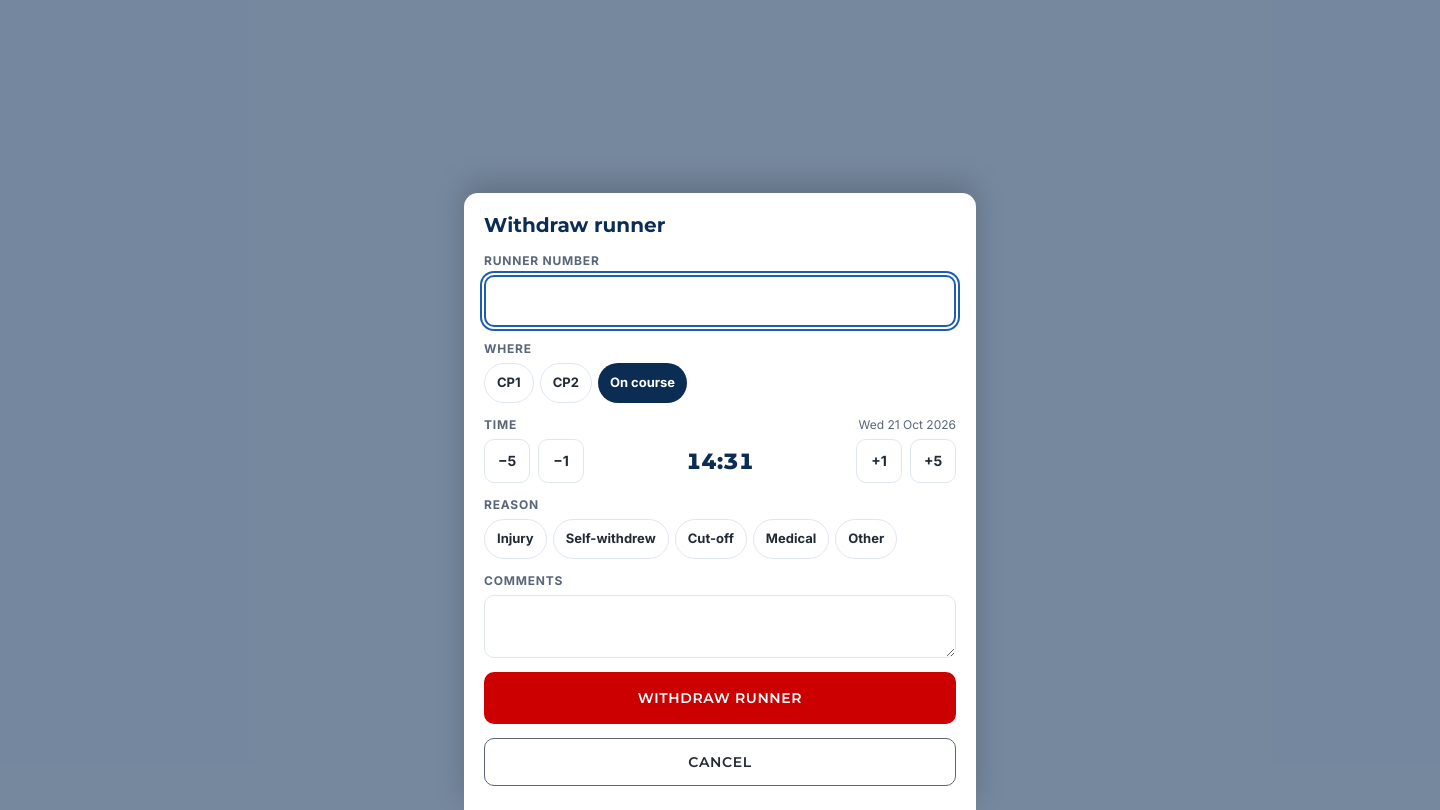
Test: WithdrawalDialog › shows a store error and stays open
Type "999" into the field labelled "Runner number" at (720, 301), box left=484, top=275, right=956, bottom=327
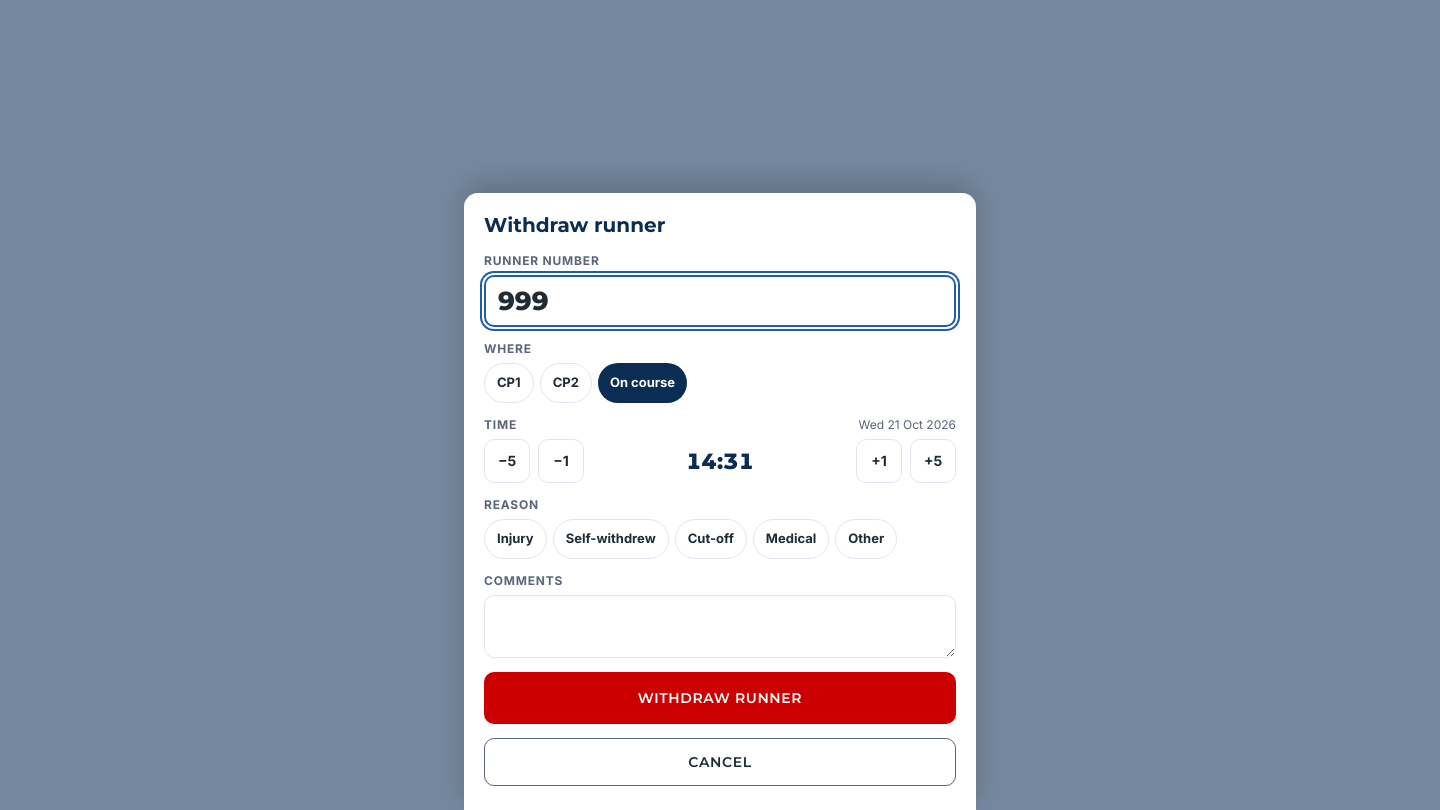
Click the button "Withdraw runner" at (720, 698), box left=484, top=672, right=956, bottom=724
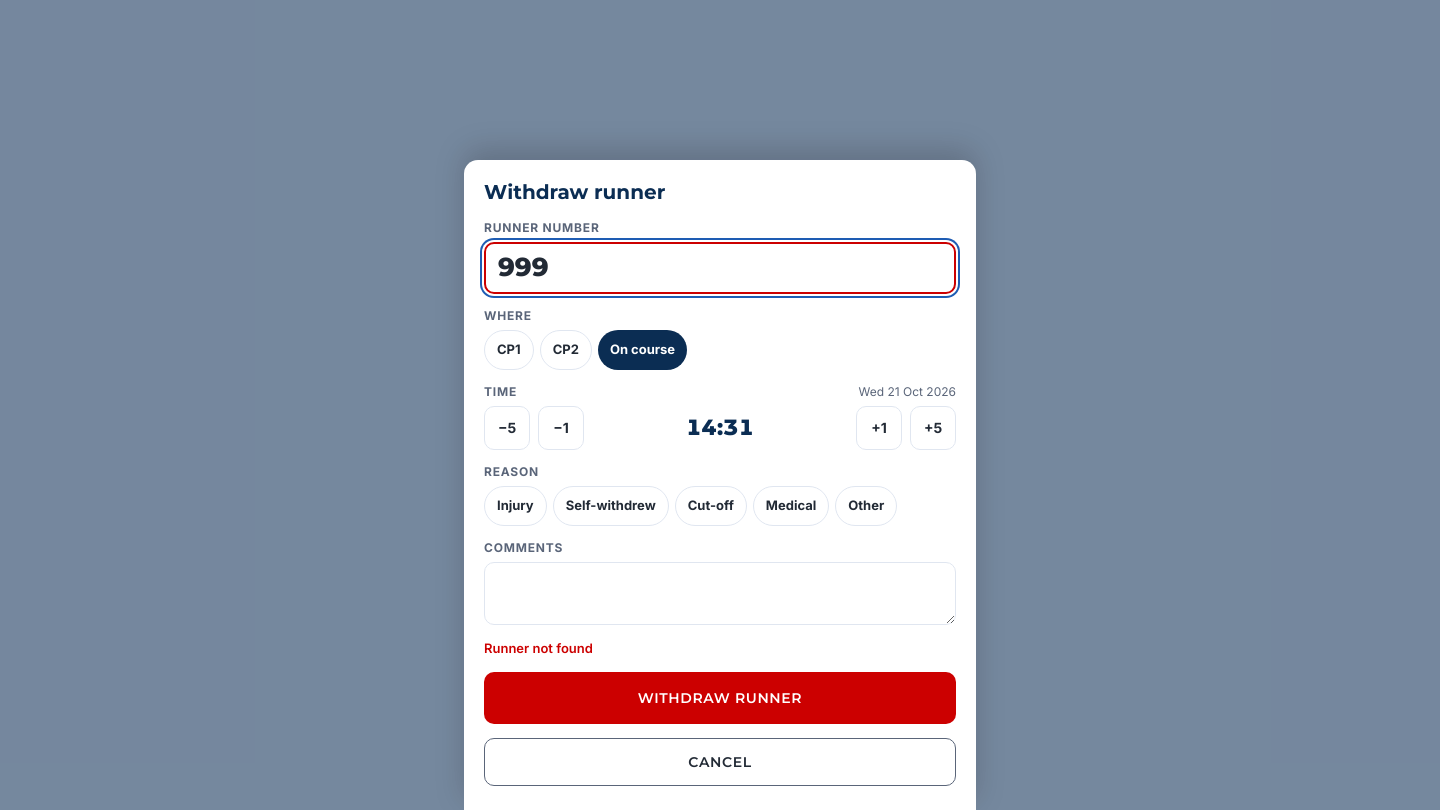
Expected: the text "Runner not found" is shown, left=484, top=640, right=593, bottom=656
